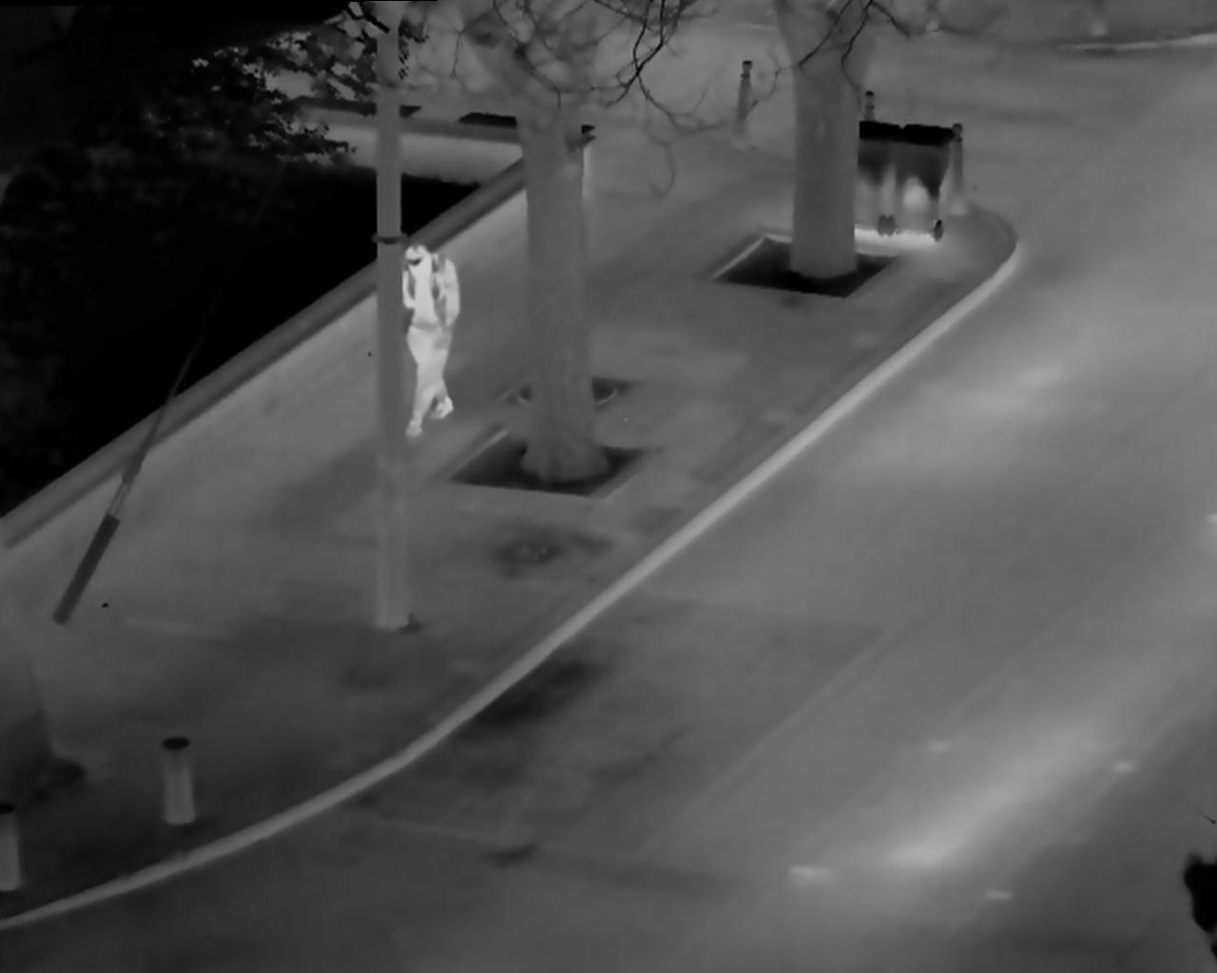person: (393, 236, 468, 432)
